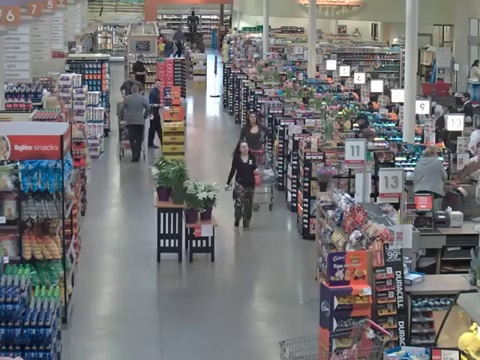face: (240, 144, 248, 153), (249, 115, 256, 123), (155, 80, 162, 88), (128, 74, 135, 80)
